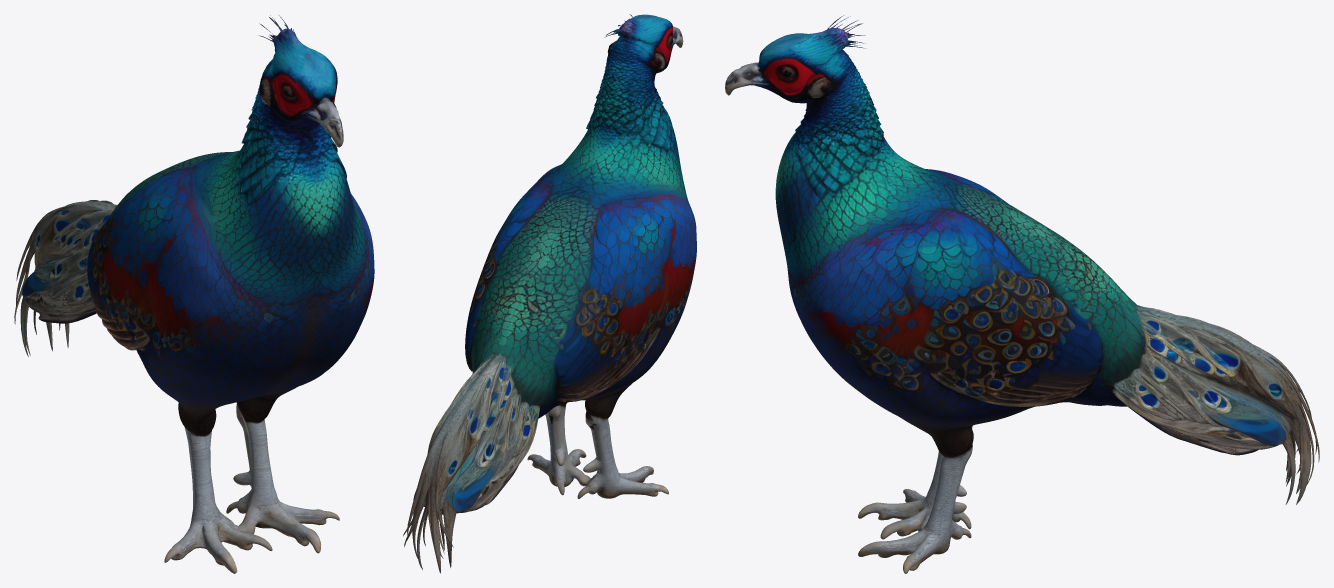
File: kongque-v1.glb
The picture shows the model from 3 angles, left to right: view 1: azimuth 30°, elevation 25°; view 2: azimuth 150°, elevation 25°; view 3: azimuth 270°, elevation 25°; orthographic projection. The views are drawn at different scales.
Visible parts, largest first — view 1: material; view 2: material; view 3: material.
Boxes of the visible parts, x1=… form: material: x1=14, y1=15, x2=374, y2=573; material: x1=403, y1=14, x2=696, y2=573; material: x1=725, y1=15, x2=1319, y2=573.
Size of the model in its own units: 0.3381 by 0.9355 by 0.9666.
1 material, 1 textured.
